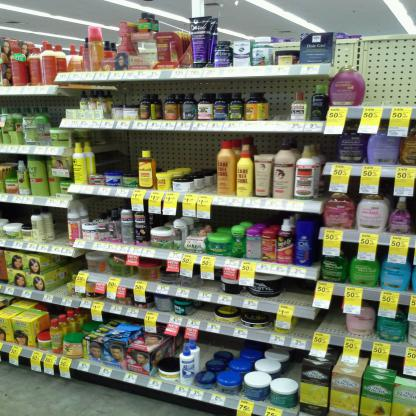Void: (160, 133, 213, 168), (371, 66, 413, 103), (103, 132, 135, 172), (270, 79, 289, 117), (202, 333, 241, 351), (287, 280, 311, 304), (321, 310, 343, 332), (213, 206, 231, 229), (117, 86, 136, 104), (195, 304, 215, 318), (297, 319, 311, 334)
